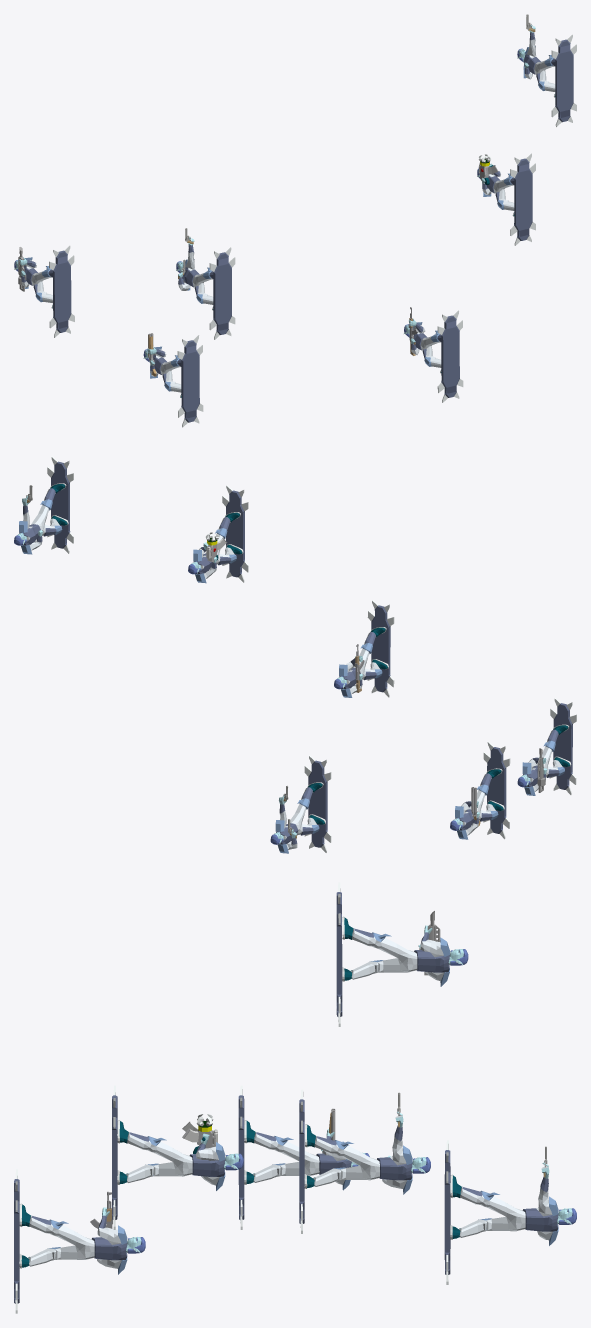
Rendered from Merman.dae.
The picture shows the model from 3 angles, top to bottom: view 1: azimuth 30°, elevation 25°; view 2: azimuth 150°, elevation 25°; view 3: azimuth 270°, elevation 25°; orthographic projection. The views are drawn at different scales.
Parts seen in each view (by area): view 1: DualRevolver, Revolver, Nailgun, Jackhammer, Boomstick, Machinegun; view 2: DualRevolver, Revolver, Nailgun, Boomstick, Machinegun, Jackhammer; view 3: Nailgun, Jackhammer, Machinegun, DualRevolver, Revolver, Boomstick.
Part boxes in pixels (left/top/right/bottom): DualRevolver: left=176, top=228, right=235, bottom=339; Revolver: left=517, top=14, right=576, bottom=126; Nailgun: left=477, top=153, right=535, bottom=245; Jackhammer: left=14, top=245, right=74, bottom=337; Boomstick: left=143, top=333, right=203, bottom=427; Machinegun: left=404, top=307, right=463, bottom=402; DualRevolver: left=270, top=755, right=331, bottom=853; Revolver: left=14, top=456, right=73, bottom=554; Nailgun: left=188, top=485, right=248, bottom=583; Boomstick: left=450, top=741, right=510, bottom=839; Machinegun: left=334, top=600, right=394, bottom=697; Jackhammer: left=517, top=698, right=576, bottom=795; Nailgun: left=112, top=1085, right=243, bottom=1229; Jackhammer: left=336, top=882, right=468, bottom=1026; Machinegun: left=14, top=1169, right=145, bottom=1313; DualRevolver: left=444, top=1140, right=576, bottom=1284; Revolver: left=299, top=1089, right=430, bottom=1233; Boomstick: left=238, top=1085, right=369, bottom=1229.
Bounding box in the file's own units: 6.26 × 3.96 × 3.23.
